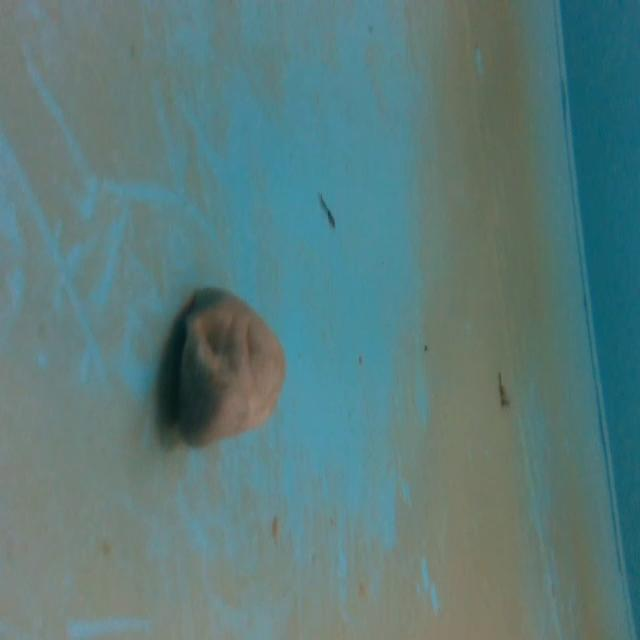rock: (161, 276, 293, 458)
